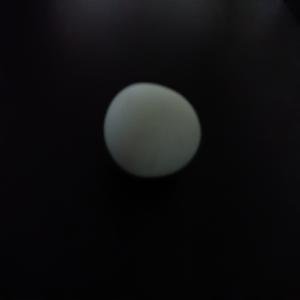Egg: (102, 81, 202, 178)
